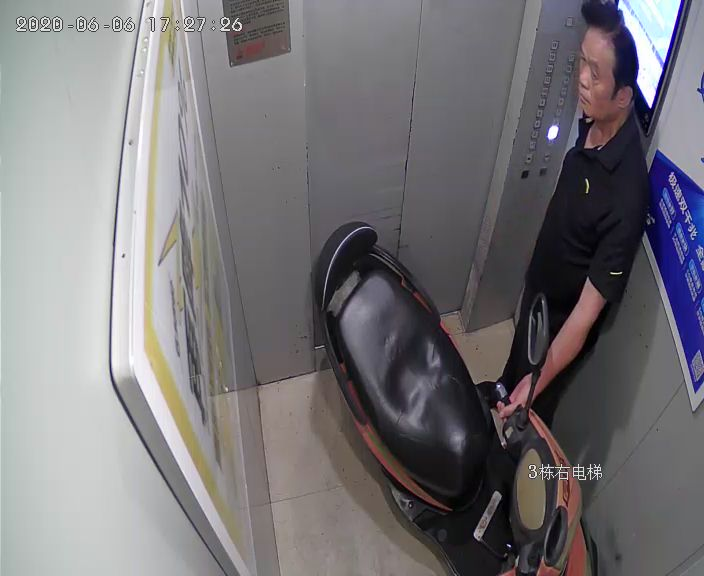Electric-bicycle: (310, 222, 597, 575)
